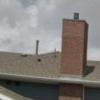Chimney: (55, 14, 90, 76)
